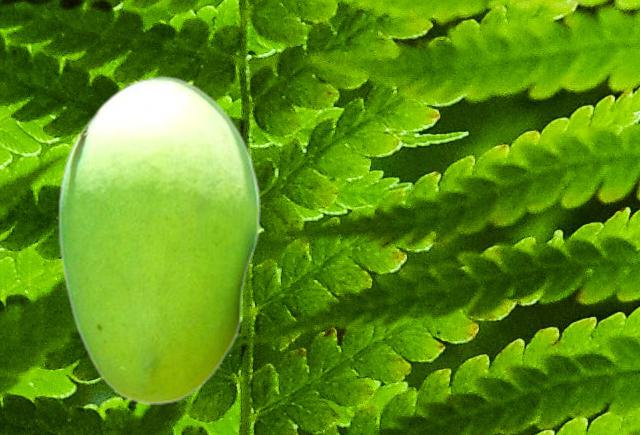green_mango: (57, 75, 259, 403)
